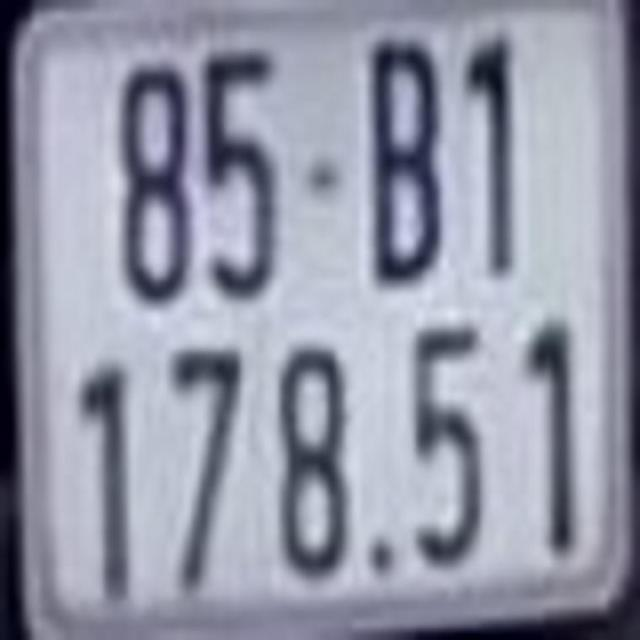1: (514, 309, 594, 556), (68, 350, 144, 606), (456, 29, 532, 278)
5: (197, 44, 283, 300), (408, 319, 478, 571)
7: (160, 338, 247, 591)
8: (270, 331, 352, 583), (114, 57, 193, 305)
B: (359, 31, 444, 286)
